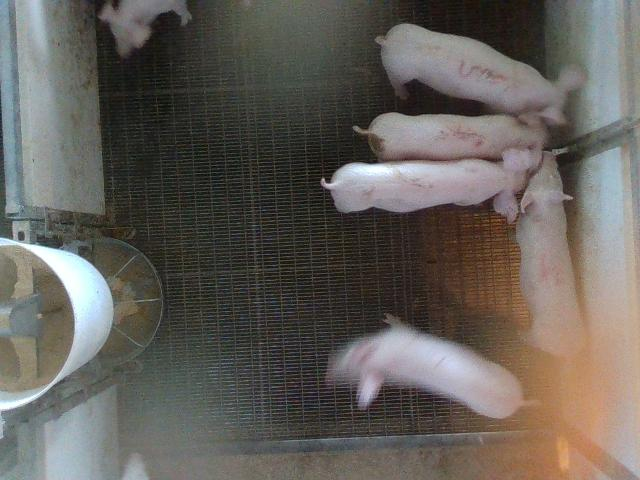pig-3: (376, 24, 588, 125)
pig-4: (516, 151, 586, 357)
pig-5: (354, 112, 548, 161)
